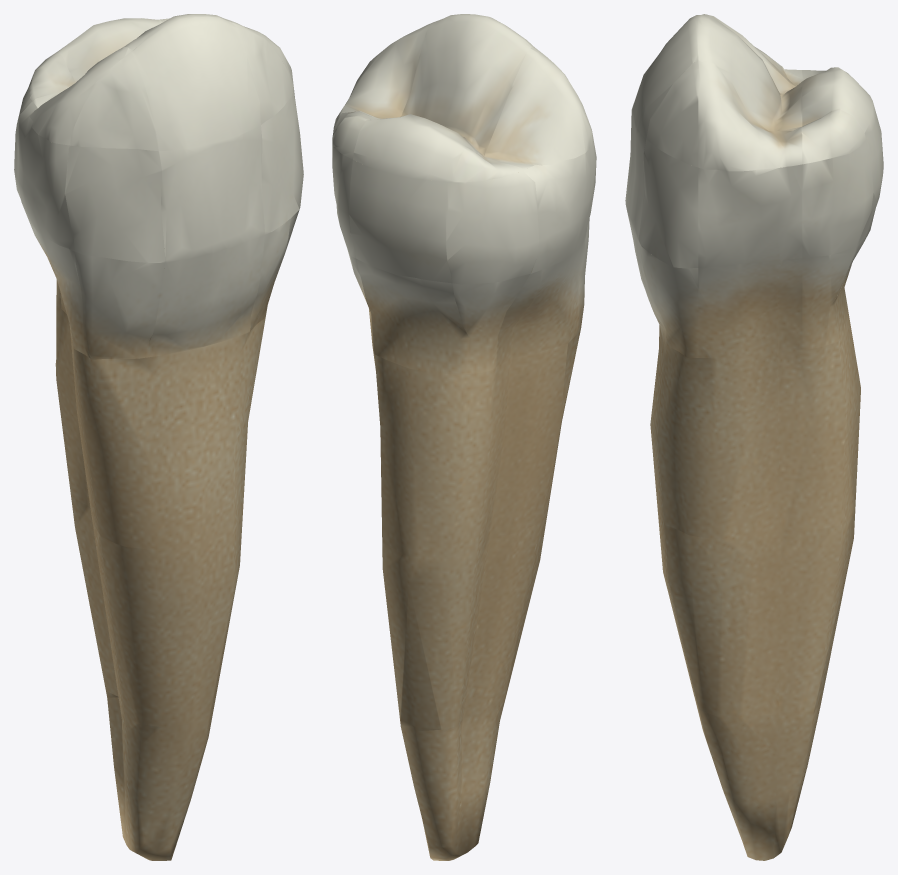
The model's file is Right_Lower_First_Premolar.glb.
The picture shows the model from 3 angles, left to right: view 1: azimuth 30°, elevation 25°; view 2: azimuth 150°, elevation 25°; view 3: azimuth 270°, elevation 25°; orthographic projection. The views are drawn at different scales.
Parts seen in each view (by area): view 1: Human_Teeth_Lower_First_Premolar; view 2: Human_Teeth_Lower_First_Premolar; view 3: Human_Teeth_Lower_First_Premolar.
Part boxes in pixels (x1,y1,x2,y2): Human_Teeth_Lower_First_Premolar: (14,14,303,860); Human_Teeth_Lower_First_Premolar: (332,14,596,860); Human_Teeth_Lower_First_Premolar: (625,14,883,860).
Size of the model in its own units: 0.961 by 3.22 by 0.9045.
30 materials, 30 textured.
